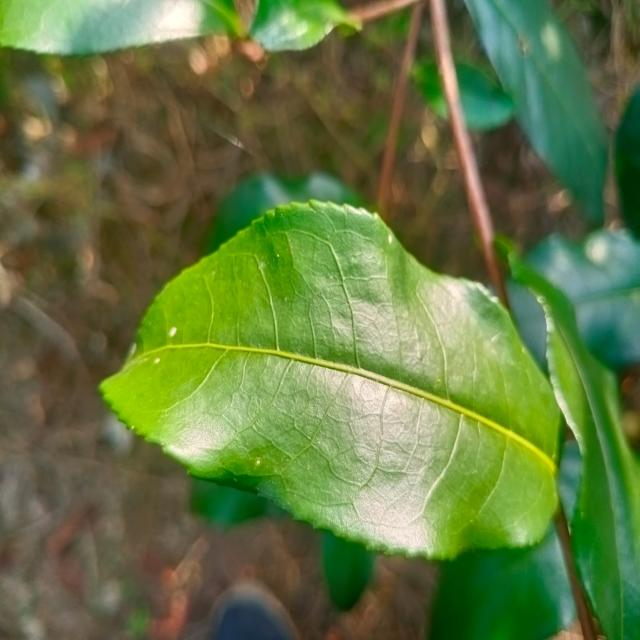Category D(7+ days, Not for Tea): (68, 172, 570, 602)
